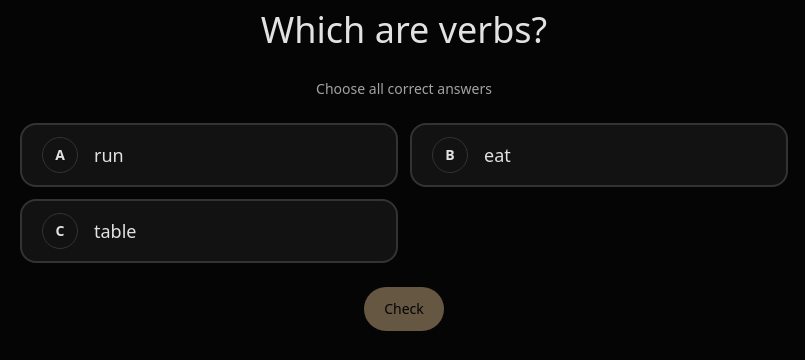
Test: QuizPlayer › needs every correct option when there are several
The width and height of the screenshot is (805, 360).
Expected: the text "Choose all correct answers" is shown, [316, 78, 492, 98]
Click the 1st button named "run" at (209, 154), box [20, 122, 398, 186]
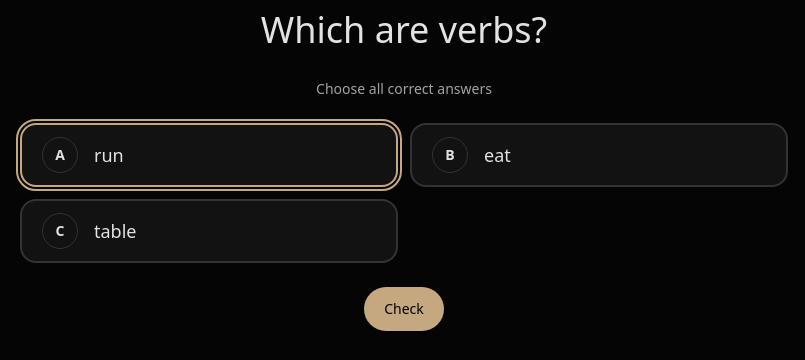
Click the button "Check" at (404, 308), box [364, 286, 444, 330]
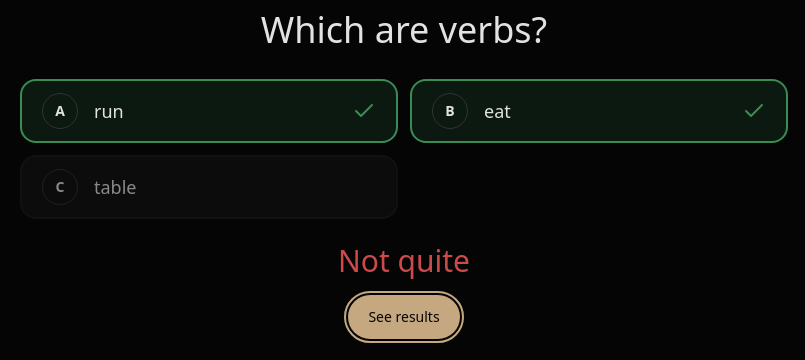
Expected: the 2nd button is shown, [410, 78, 788, 142]
Now the text "Not quite" is shown, box [338, 242, 470, 278]
